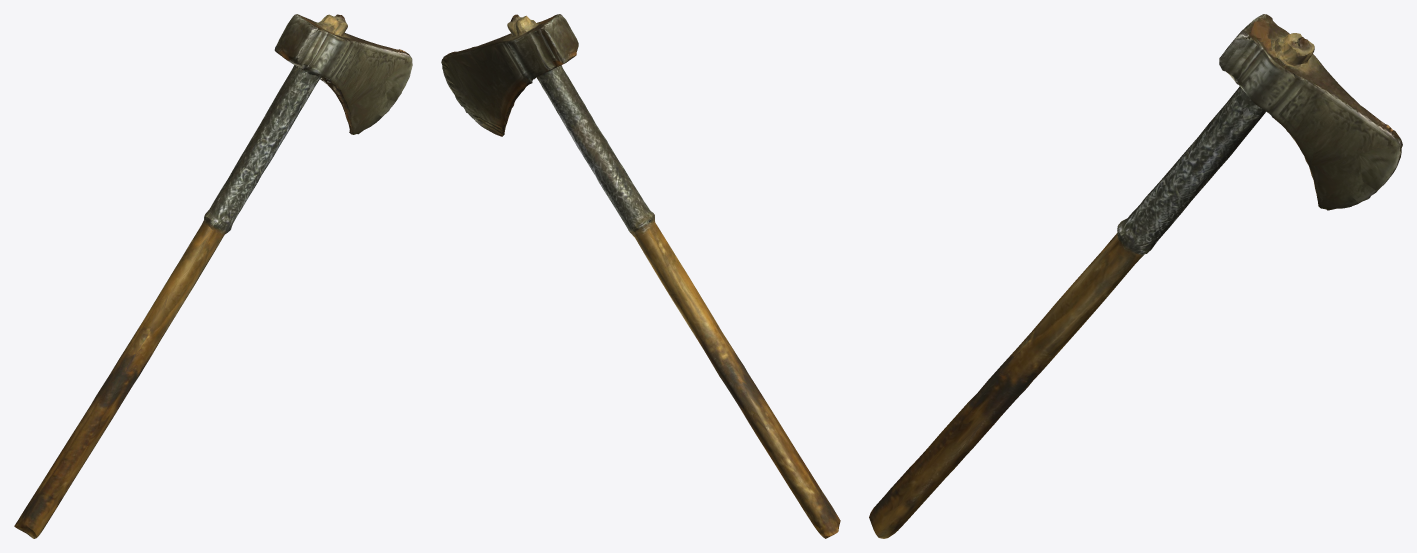
Rendered from aibalta.glb.
3 views of the same model, side by side, from view 1: azimuth 30°, elevation 25°; view 2: azimuth 150°, elevation 25°; view 3: azimuth 330°, elevation 25° (orthographic). The views are drawn at different scales.
Visible parts, largest first — view 1: Polygon Reduction; view 2: Polygon Reduction; view 3: Polygon Reduction.
Part boxes in pixels (x1=…): Polygon Reduction: x1=14, y1=14, x2=412, y2=538; Polygon Reduction: x1=441, y1=14, x2=840, y2=538; Polygon Reduction: x1=869, y1=14, x2=1402, y2=538.
Bounding box in the file's own units: 209 × 228 × 19.9.
1 material, 1 textured.
